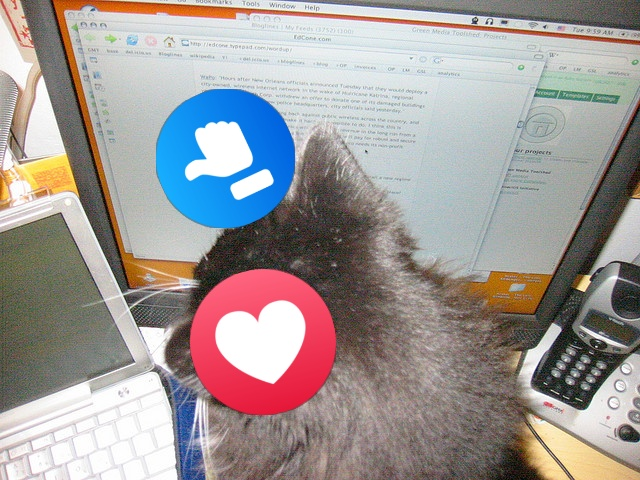like: (156, 89, 295, 228)
love: (190, 269, 336, 415)
